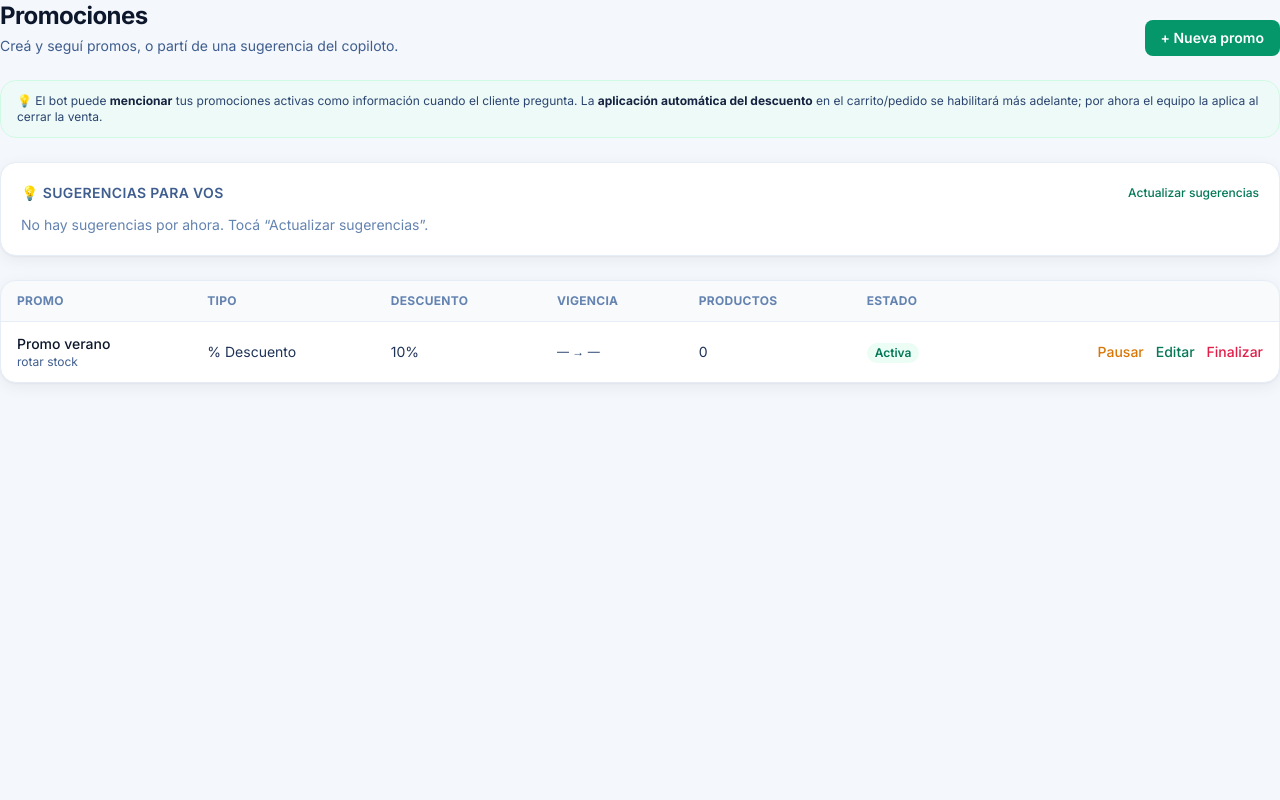
Scenario: H-03 · el rechazo no se pierde ni se arrastra entre aperturas › si finalizar una promo es rechazado, el motivo se dice DENTRO del diálogo
Click the button "Finalizar": coordinates (1235, 352) [1207,342,1263,362]
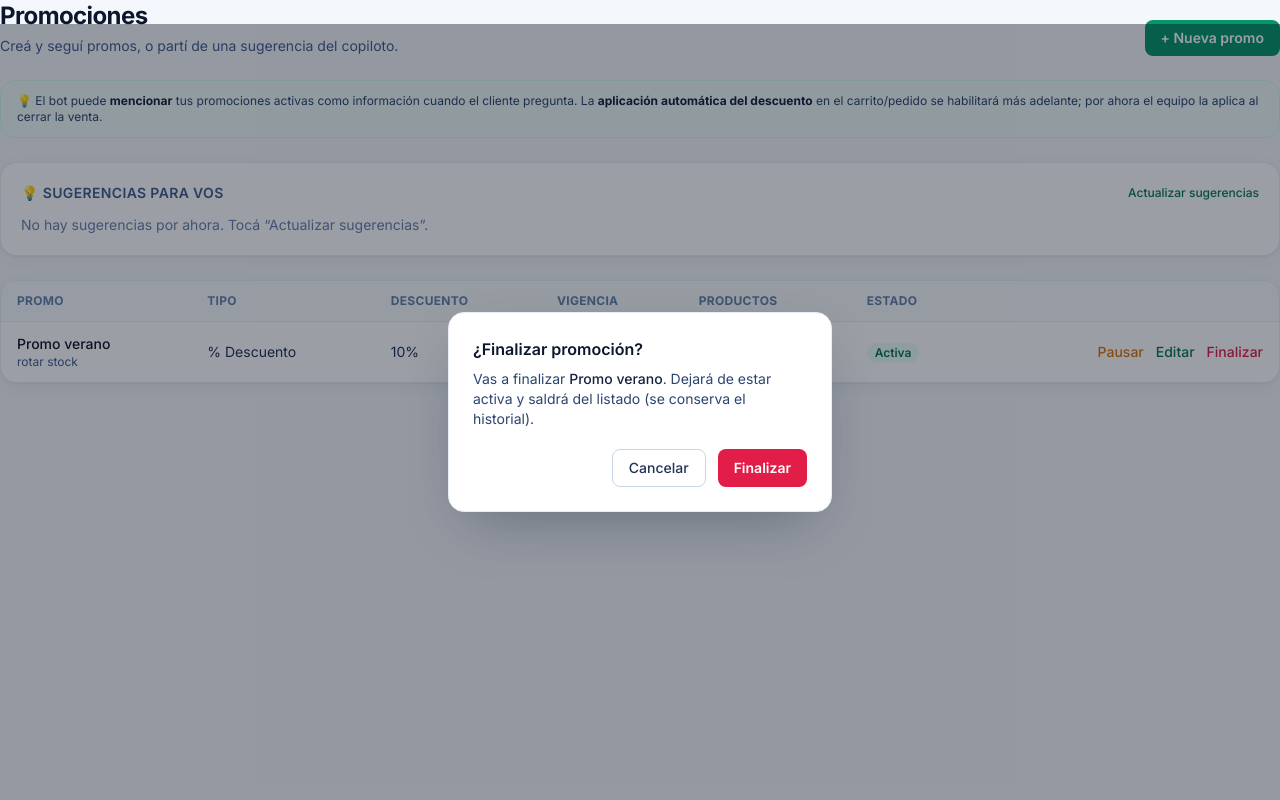
Click the button "Finalizar": coordinates (762, 468) [718,449,807,487]
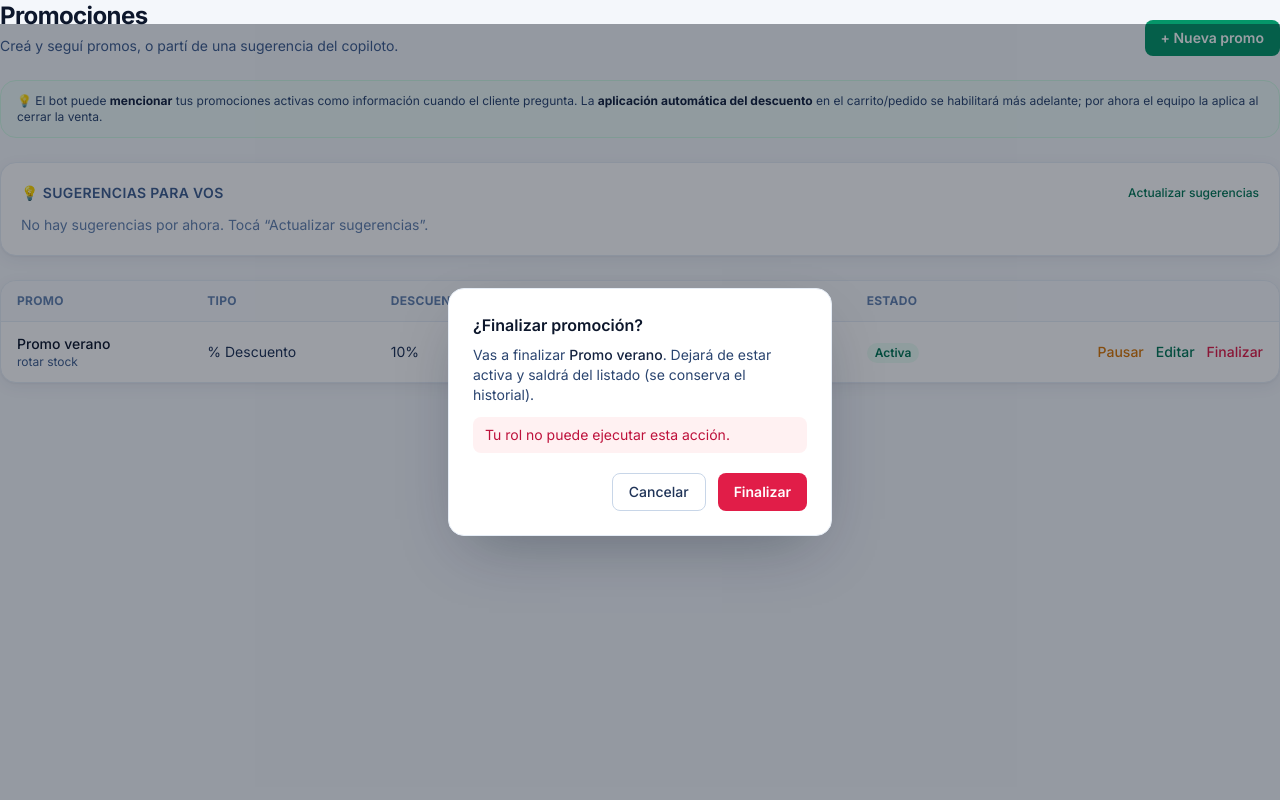
Result: the message shows "Tu rol no puede ejecutar" at [485,426,730,443]
